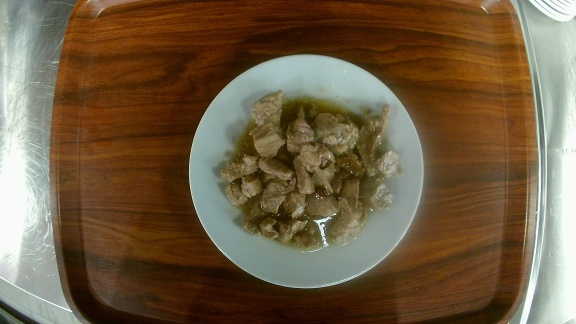etsote: (188, 52, 425, 290)
